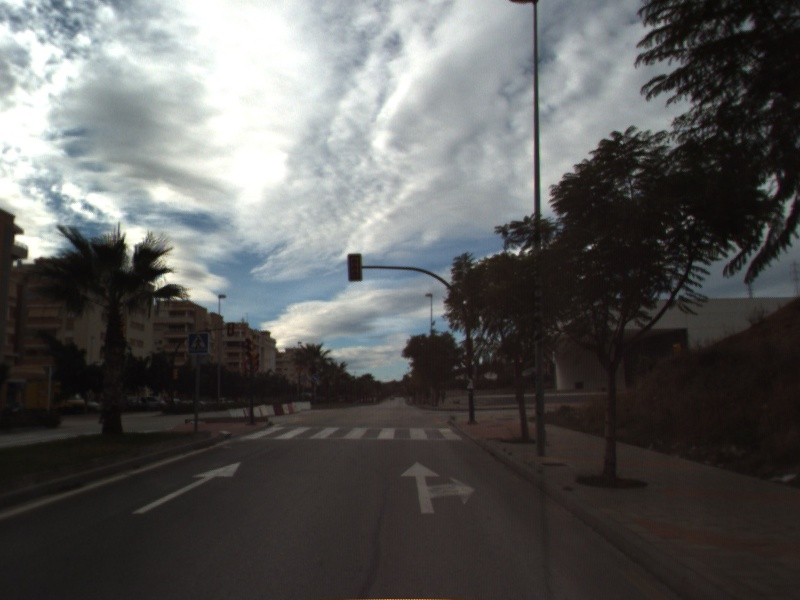STRAIGHT: (131, 460, 243, 515)
STRAIGHT_RIGHT: (399, 460, 477, 515)
